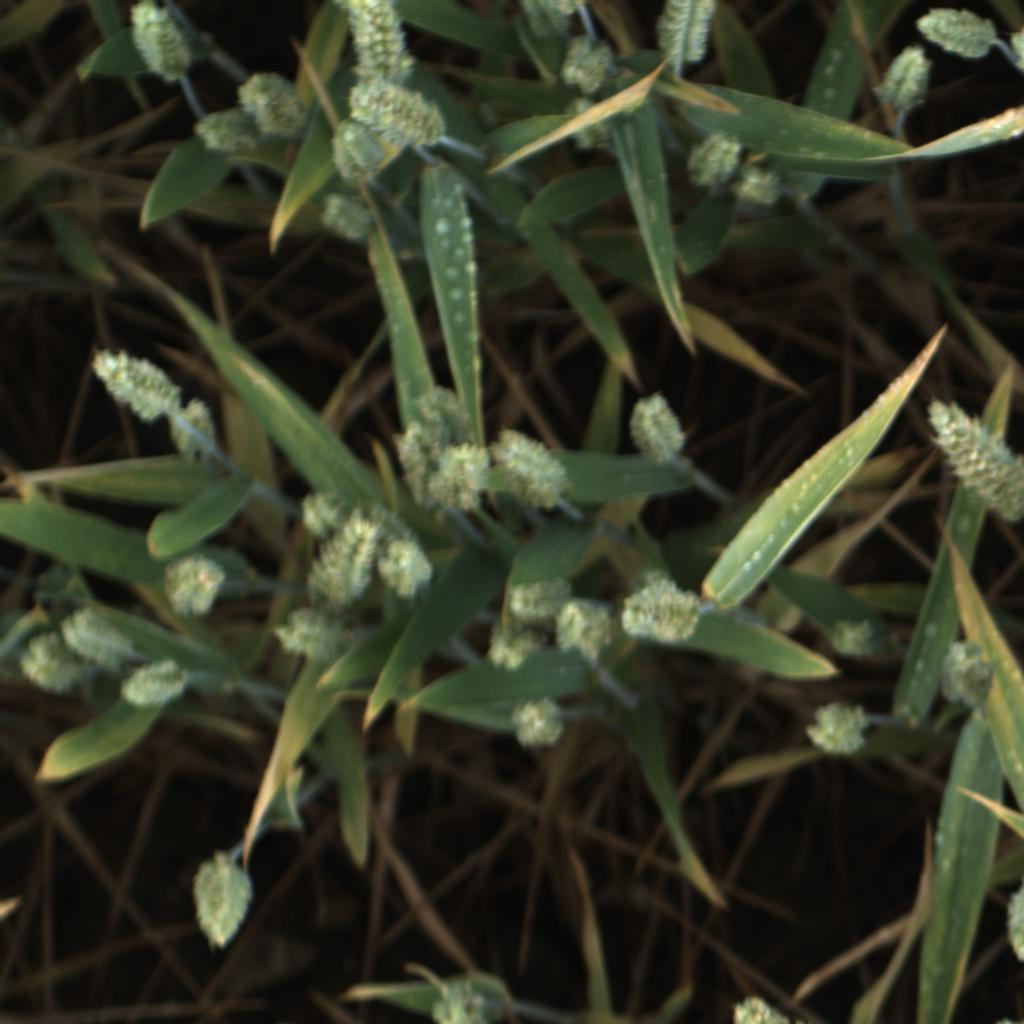0-0: (925, 397, 1023, 522), (487, 426, 581, 512), (340, 80, 453, 148), (182, 849, 257, 951), (307, 510, 385, 604), (89, 345, 181, 424), (344, 0, 422, 93), (124, 1, 198, 85), (814, 604, 904, 668), (619, 579, 707, 644), (389, 420, 451, 512), (64, 603, 140, 676), (270, 601, 356, 665), (234, 67, 310, 138), (399, 381, 478, 449), (725, 151, 800, 219), (914, 6, 1000, 65), (680, 123, 748, 197), (935, 636, 998, 714), (17, 629, 85, 700), (434, 435, 487, 524), (628, 390, 689, 467), (504, 687, 572, 756), (549, 594, 617, 662), (121, 649, 190, 714), (322, 114, 387, 182), (879, 43, 937, 119), (499, 571, 576, 627), (165, 551, 229, 618), (655, 2, 713, 73), (806, 699, 873, 760), (166, 397, 220, 471), (377, 536, 435, 601), (317, 190, 377, 251), (188, 104, 256, 157), (559, 33, 617, 94), (424, 976, 494, 1024), (559, 96, 615, 152), (486, 618, 544, 669), (295, 488, 351, 537), (517, 0, 573, 44), (998, 885, 1024, 967), (725, 990, 784, 1024), (1005, 22, 1024, 75), (546, 0, 588, 17)
